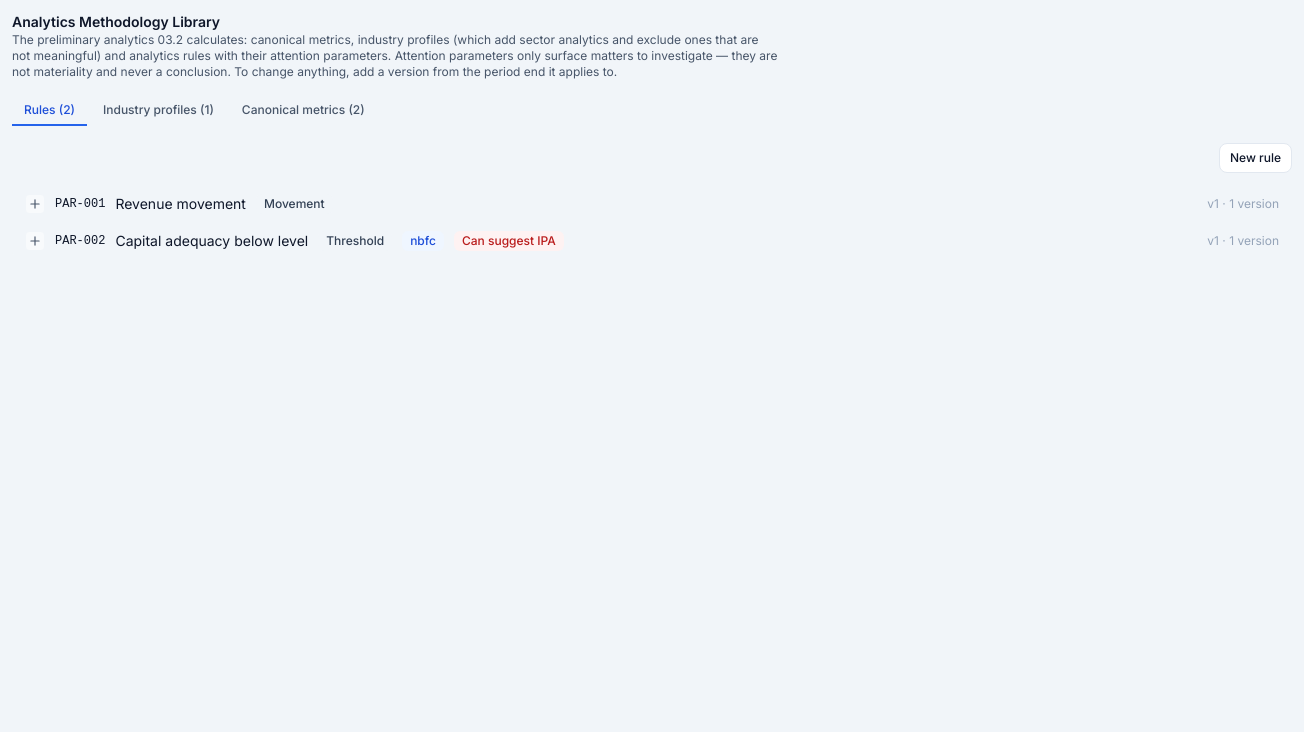
Analytics Methodology Library administration › shows profiles with their sector rules, debt definition and finance-cost basis
Click the button "Industry profiles (1)". click: (158, 111)
box: [91,96,226,126]
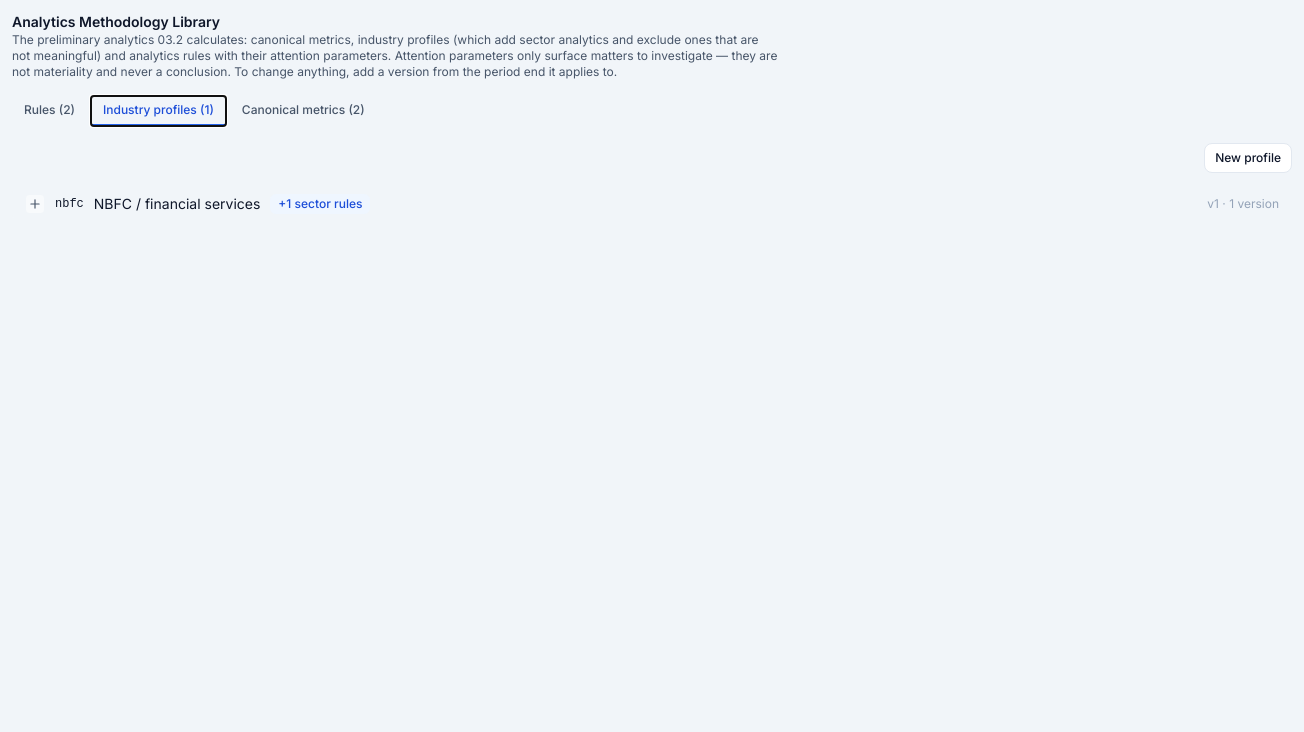
Now the text "+1 sector rules" is shown, box [270,194,370,214]
Click the button "NBFC / financial services". click: (177, 204)
box: [25,194,1279,214]
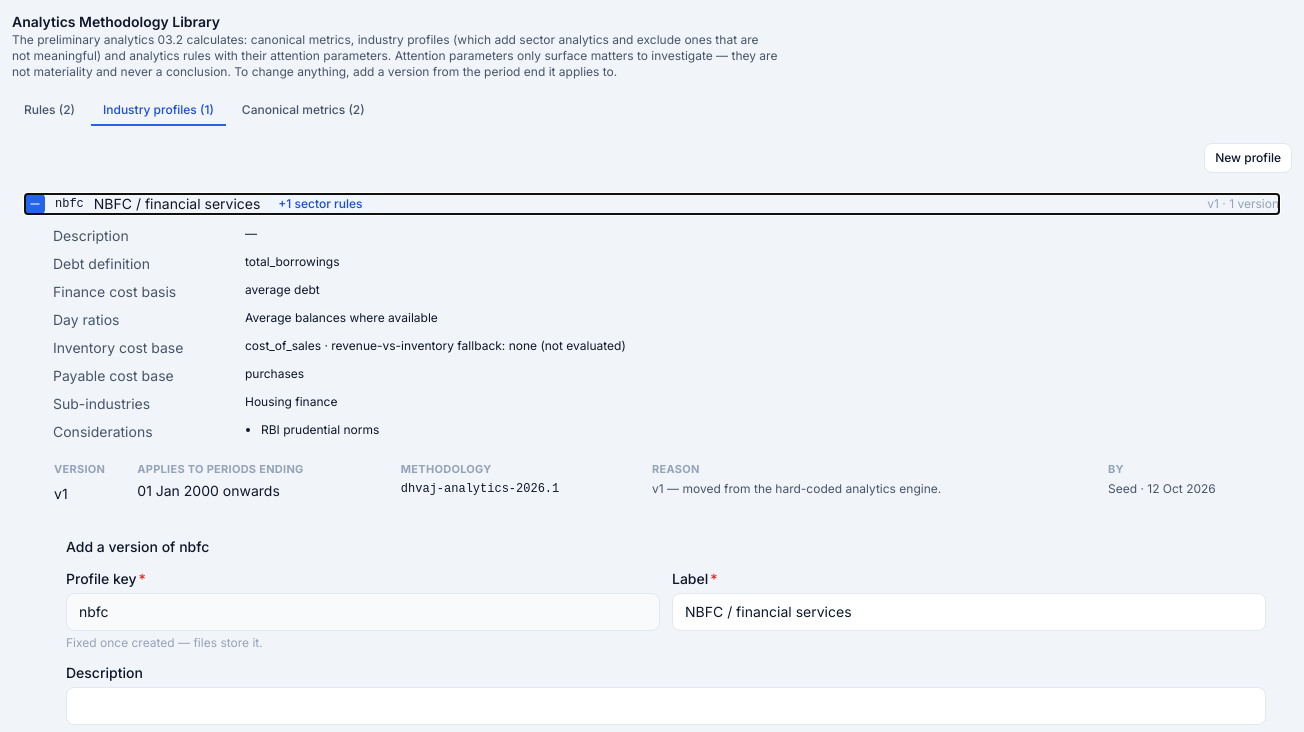
Now the text "average debt" is shown, box [245,282,320,297]
Now the text "fallback: none (not evaluated)" is shown, box [321,338,626,353]
